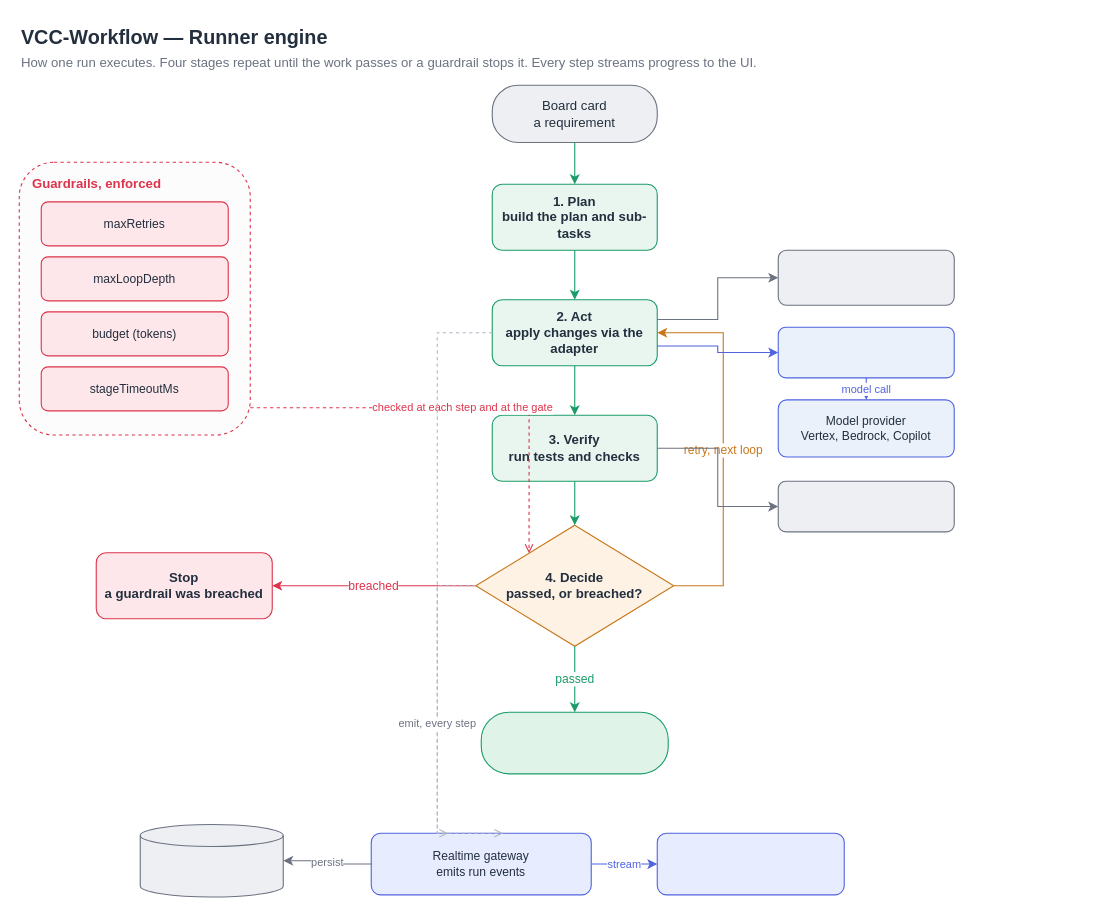
Image size: 1095x916. Some labels were removed from this diagram. Here are the shapes that lost their labels. From the top down, the centre of each, then its label:
(x=865, y=277): Git worktree edits and diffs
(x=865, y=352): AgentPort adapter
(x=865, y=506): Tests and build
(x=574, y=742): Complete run completed, board updated
(x=211, y=860): SQLite persist
(x=750, y=863): Dashboard live updates
